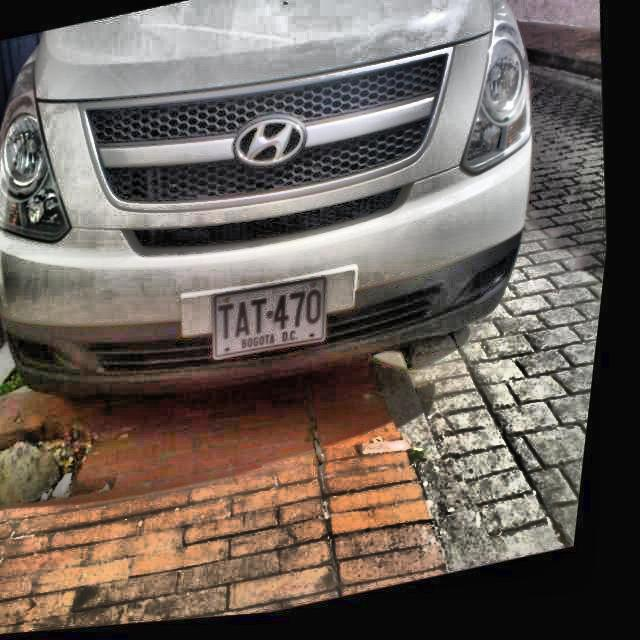plate: (214, 278, 325, 358)
